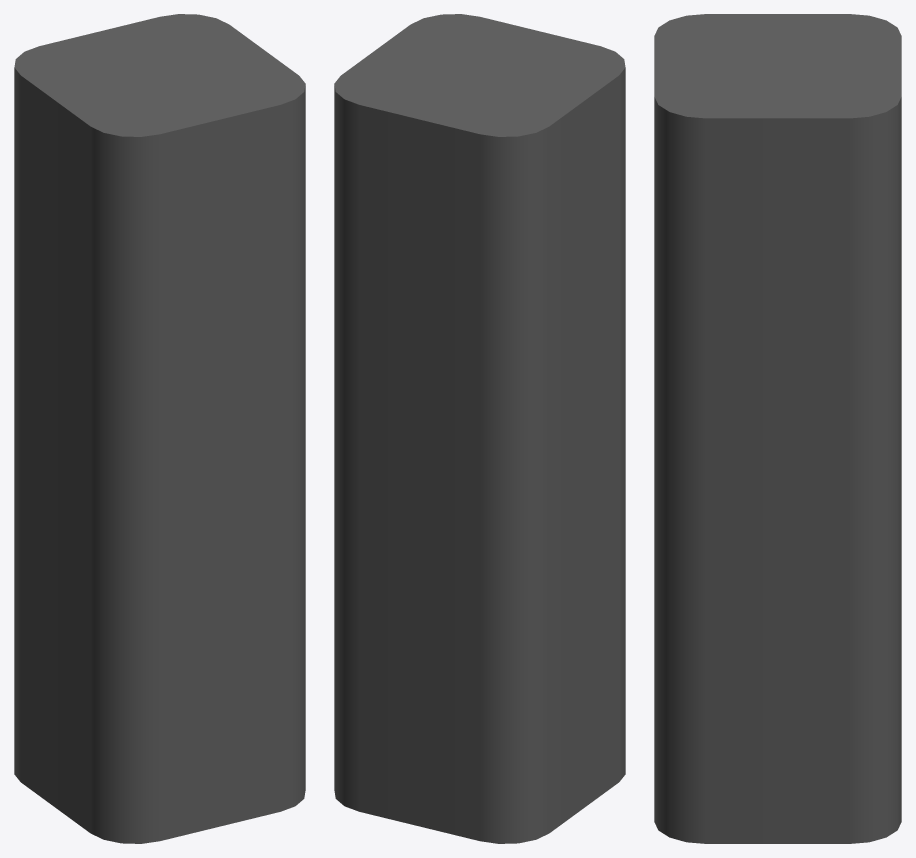
Rendered from SM_poteau.fbx.
3 views of the same model, side by side, from view 1: azimuth 30°, elevation 25°; view 2: azimuth 150°, elevation 25°; view 3: azimuth 270°, elevation 25° (orthographic). The views are drawn at different scales.
Visible parts, largest first — view 1: SM_poteau; view 2: SM_poteau; view 3: SM_poteau.
Boxes of the visible parts, <box> form: SM_poteau: <box>14,14,305,843</box>; SM_poteau: <box>334,14,625,843</box>; SM_poteau: <box>654,14,901,843</box>.
Size of the model in its own units: 0.3088 by 1 by 0.3088.
Materials: 1 (1 with a texture image).
